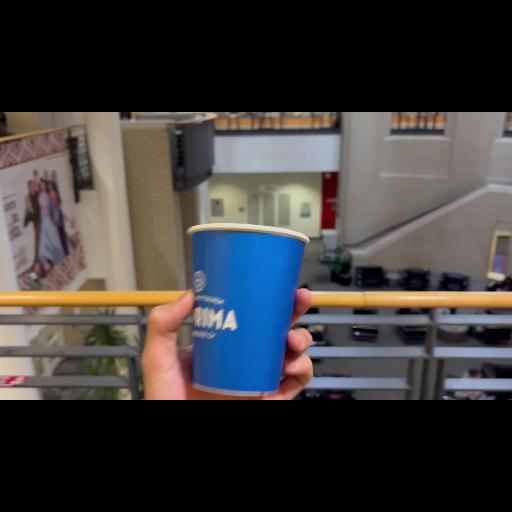lp_paper_cup: (186, 222, 310, 396)
